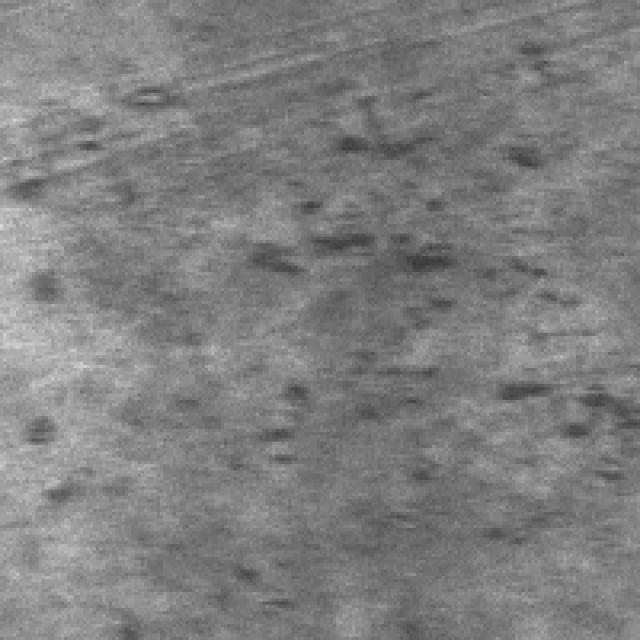rolled-in_scale: (231, 86, 634, 509), (6, 80, 173, 618)
